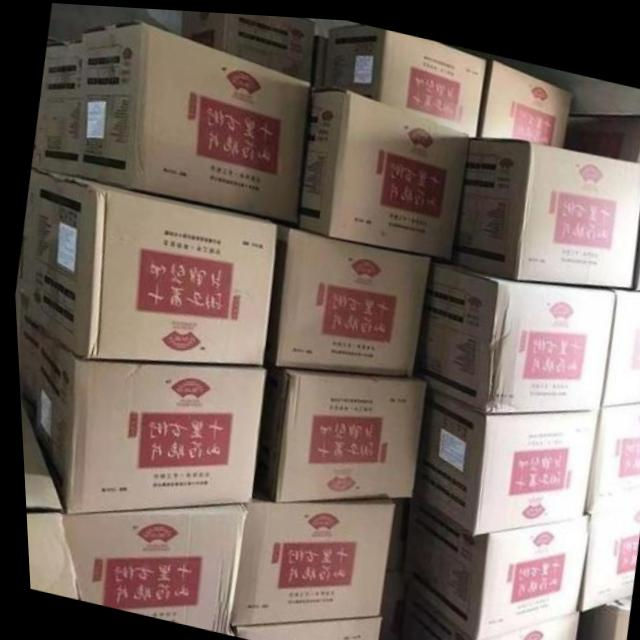box: (20, 168, 272, 361), (15, 320, 261, 513), (73, 19, 310, 219), (408, 253, 612, 407), (295, 82, 468, 253), (451, 130, 640, 281), (409, 381, 596, 529), (398, 489, 585, 635), (260, 221, 429, 370), (59, 500, 243, 631), (254, 364, 422, 499), (223, 489, 389, 621), (322, 19, 486, 131), (392, 578, 573, 640), (179, 8, 314, 77), (479, 54, 571, 139), (570, 495, 638, 605), (578, 395, 640, 506), (35, 39, 80, 175), (597, 281, 640, 400), (21, 513, 72, 598), (229, 613, 375, 640), (17, 407, 55, 509)
